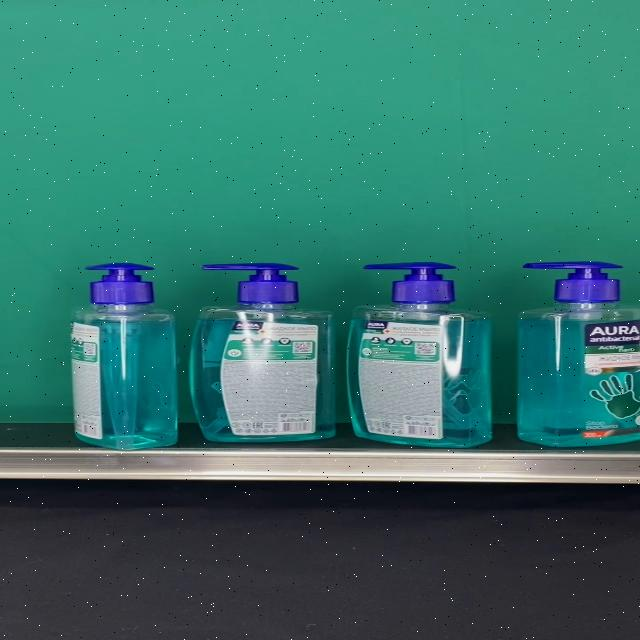Bottle: (347, 262, 492, 448), (191, 262, 335, 443), (517, 261, 640, 447), (68, 262, 178, 451)
Cap: (522, 261, 622, 303), (200, 262, 299, 304), (363, 262, 457, 304), (85, 262, 155, 304)
